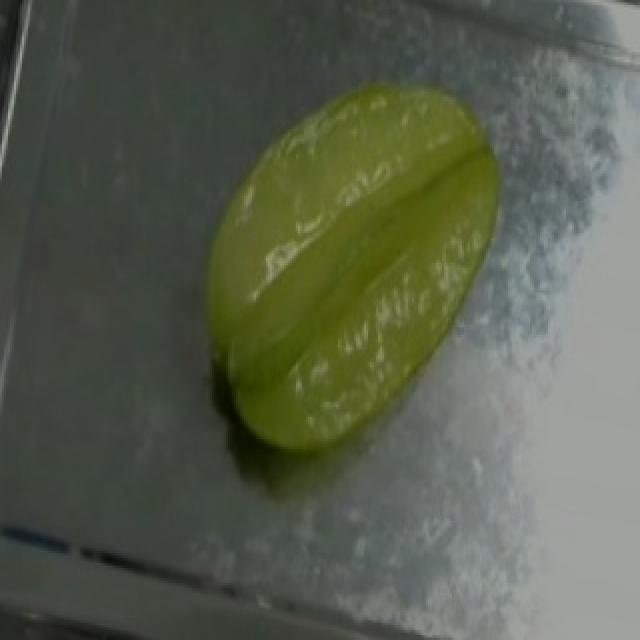fruit: (182, 44, 550, 422)
